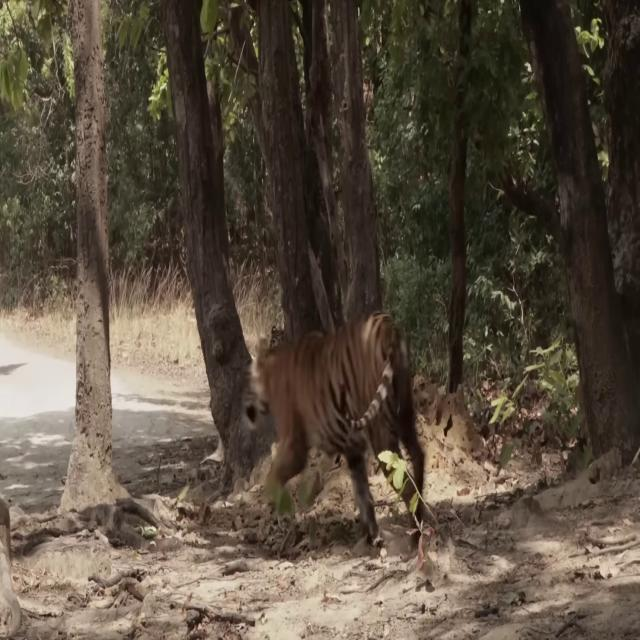tiger: (254, 307, 426, 545)
